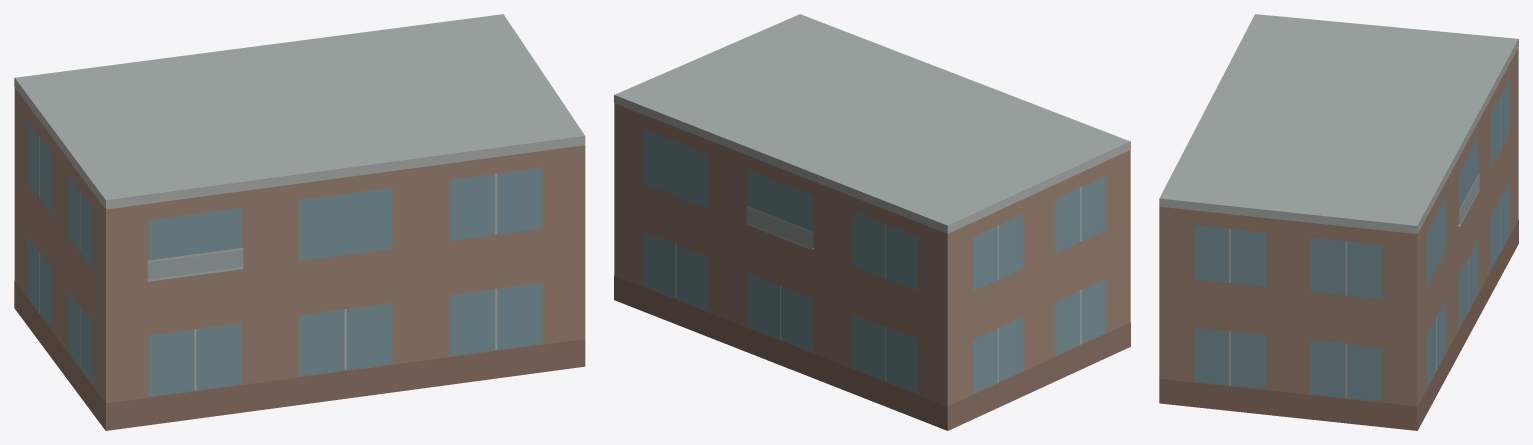
File: survey-upis-32932947.glb
3 views of the same model, side by side, from view 1: azimuth 30°, elevation 25°; view 2: azimuth 150°, elevation 25°; view 3: azimuth 270°, elevation 25° (orthographic). The views are drawn at different scales.
Visible parts, largest first — view 1: survey-upis-32932947.tmp; view 2: survey-upis-32932947.tmp; view 3: survey-upis-32932947.tmp.
Boxes of the visible parts, x1,y1,x2,y2 form: survey-upis-32932947.tmp: (14, 14, 585, 430); survey-upis-32932947.tmp: (614, 14, 1130, 430); survey-upis-32932947.tmp: (1159, 14, 1518, 430).
Size of the model in its own units: 13.55 by 6.1 by 9.71.
